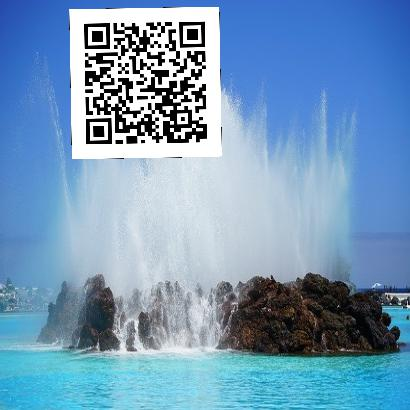qr_code: (69, 7, 221, 158)
